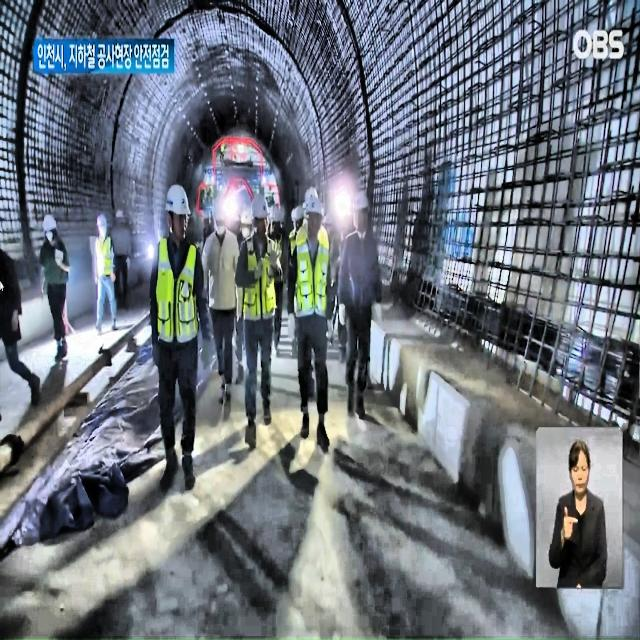safety_helmet: (165, 184, 192, 216), (250, 197, 271, 220), (305, 195, 323, 220), (211, 197, 227, 220), (354, 190, 370, 211), (43, 214, 57, 232), (292, 205, 306, 222), (240, 207, 252, 226), (97, 212, 106, 228)
safety_jacket: (159, 241, 199, 341), (242, 237, 278, 318), (298, 228, 329, 318), (95, 239, 115, 277)
